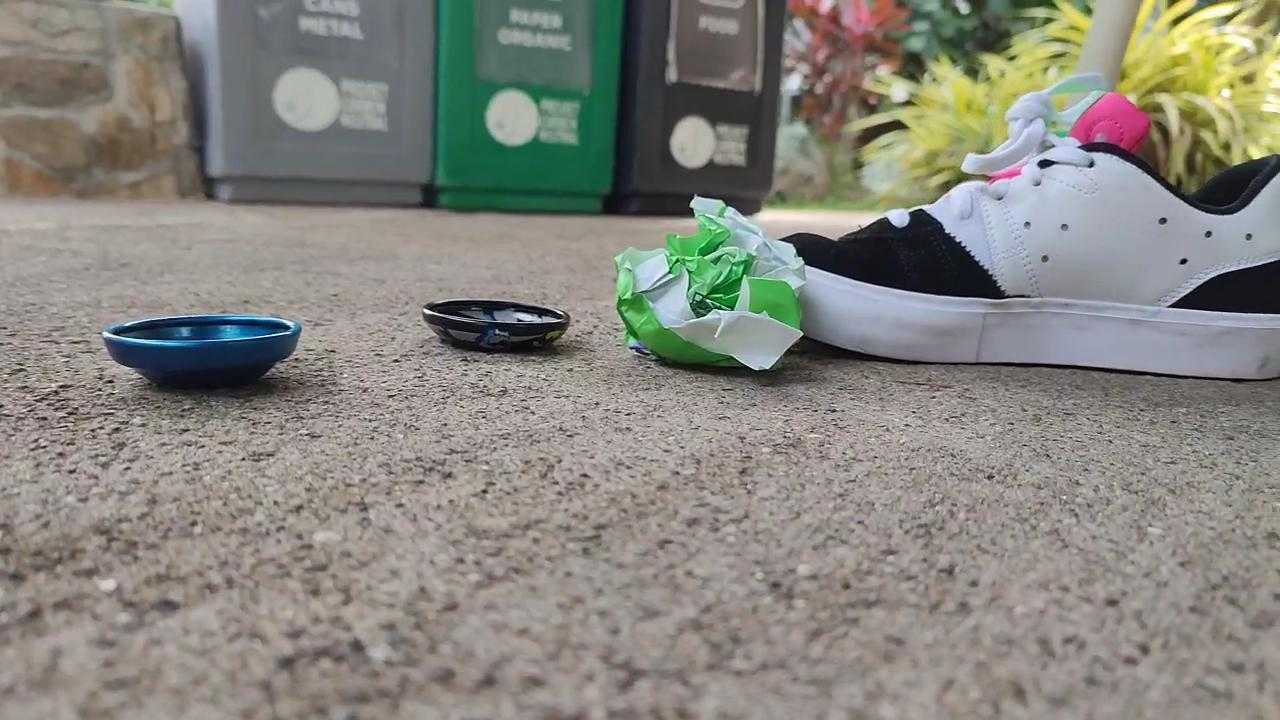Paper: (604, 177, 812, 395)
